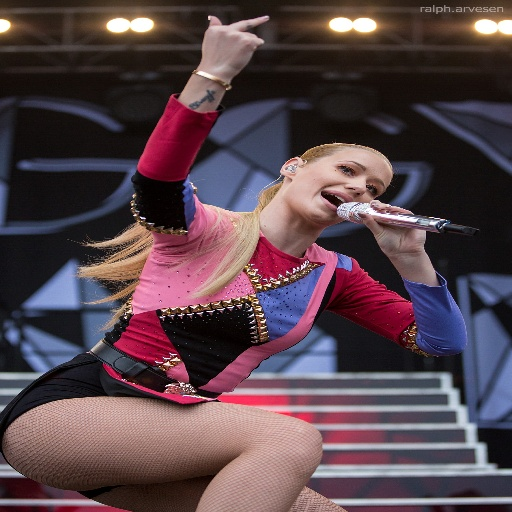hand: (172, 13, 265, 109), (358, 196, 428, 254)
